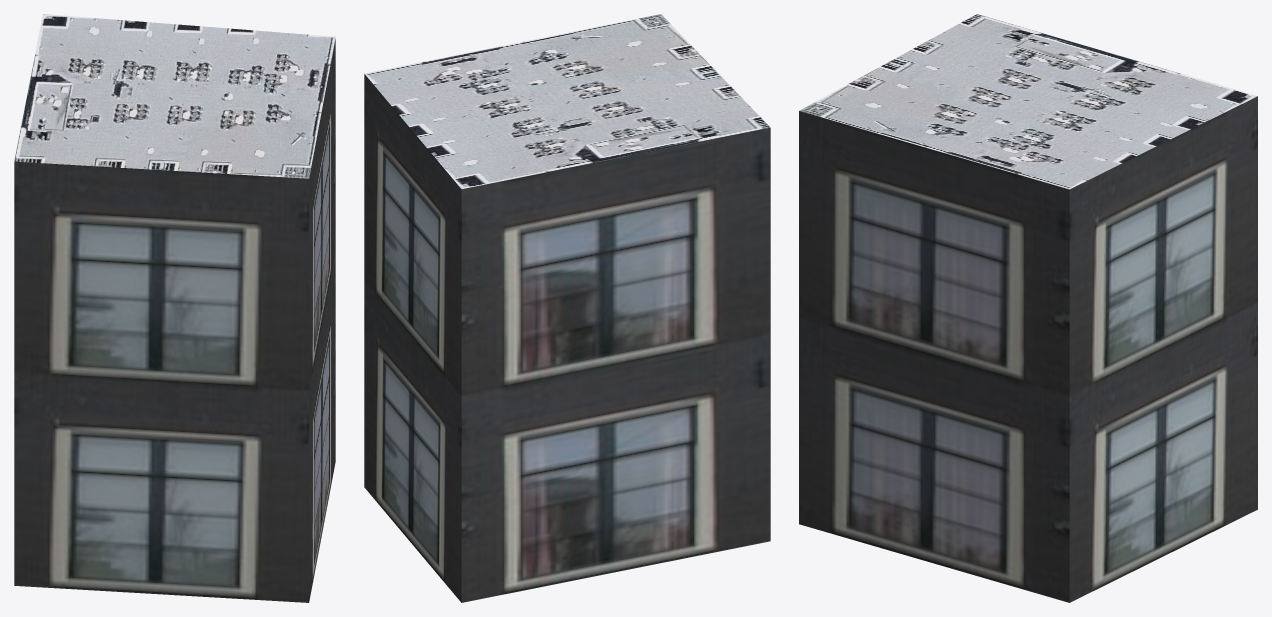
The model's file is ResTex__5181.fbx.
3 renders of one model, left to right at view 1: azimuth 30°, elevation 25°; view 2: azimuth 150°, elevation 25°; view 3: azimuth 270°, elevation 25°, orthographic. The views are drawn at different scales.
Parts seen in each view (by area): view 1: CityEngineMaterial_22_m, CityEngineMaterial_8_m; view 2: CityEngineMaterial_22_m, CityEngineMaterial_8_m; view 3: CityEngineMaterial_22_m, CityEngineMaterial_8_m.
Boxes of the visible parts, bbox=[...] form: CityEngineMaterial_22_m: bbox=[14, 38, 335, 602]; CityEngineMaterial_8_m: bbox=[14, 14, 335, 178]; CityEngineMaterial_22_m: bbox=[364, 74, 770, 602]; CityEngineMaterial_8_m: bbox=[365, 14, 769, 189]; CityEngineMaterial_22_m: bbox=[799, 96, 1257, 602]; CityEngineMaterial_8_m: bbox=[799, 14, 1257, 189].
Bounding box in the file's own units: 5.46 × 6 × 6.03.
2 materials, 2 textured.
